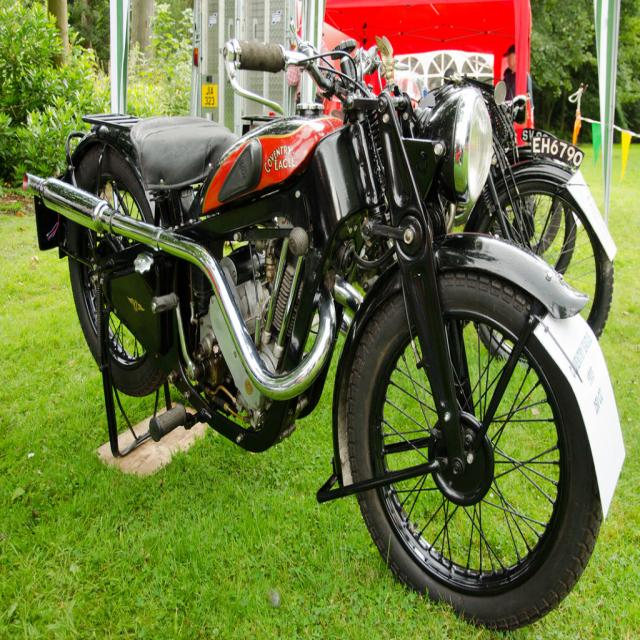Motorbikes: (18, 35, 630, 633)
